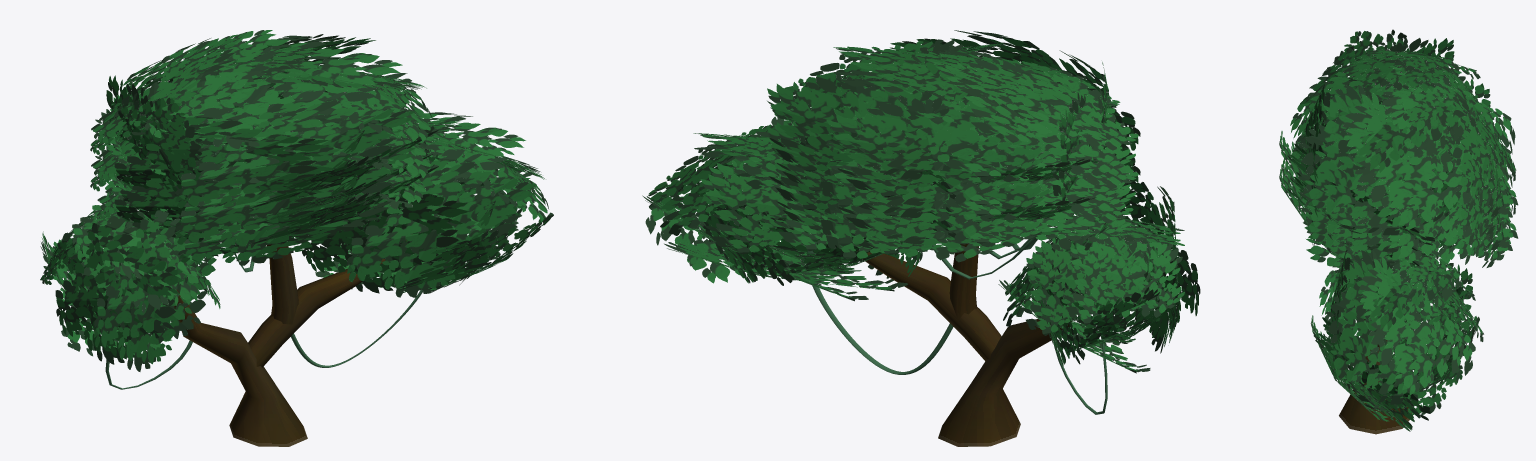
File: jungle tree finished.fbx
3 views of the same model, side by side, from view 1: azimuth 30°, elevation 25°; view 2: azimuth 150°, elevation 25°; view 3: azimuth 270°, elevation 25° (orthographic). The views are drawn at different scales.
Visible parts, largest first — view 1: pasted__pasted__pasted__pasted__pasted__pasted__group7_paste, sweep2, sweep1, sweep3, pasted__pasted__pasted__pasted__pasted__pasted__pasted__past; view 2: pasted__pasted__pasted__pasted__pasted__pasted__group7_paste, sweep2, sweep1, sweep3, pasted__pasted__pasted__pasted__pasted__pasted__pasted__past; view 3: pasted__pasted__pasted__pasted__pasted__pasted__group7_paste, sweep2.
Boxes of the visible parts, <box> form: pasted__pasted__pasted__pasted__pasted__pasted__group7_paste: <box>40,30,553,371</box>; sweep2: <box>174,289,307,446</box>; sweep1: <box>248,240,406,367</box>; sweep3: <box>266,243,298,324</box>; pasted__pasted__pasted__pasted__pasted__pasted__pasted__past: <box>291,261,432,367</box>; pasted__pasted__pasted__pasted__pasted__pasted__group7_paste: <box>642,30,1200,373</box>; sweep2: <box>938,294,1081,446</box>; sweep1: <box>857,250,1001,361</box>; sweep3: <box>949,243,978,320</box>; pasted__pasted__pasted__pasted__pasted__pasted__pasted__past: <box>807,240,953,374</box>; pasted__pasted__pasted__pasted__pasted__pasted__group7_paste: <box>1279,29,1518,431</box>; sweep2: <box>1339,340,1411,434</box>.
Bounding box in the file's own units: 21.2 × 14.73 × 10.13.
Materials: 163 (158 with a texture image).
